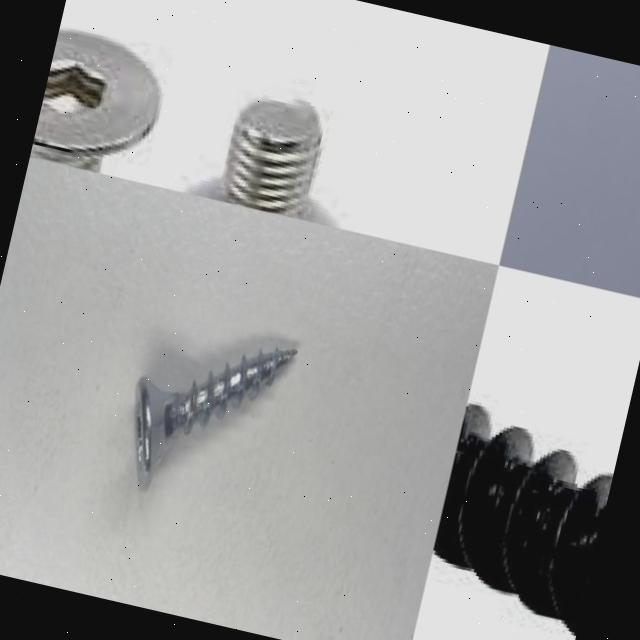Screw: (431, 406, 612, 640), (135, 347, 297, 489), (29, 26, 163, 173)
